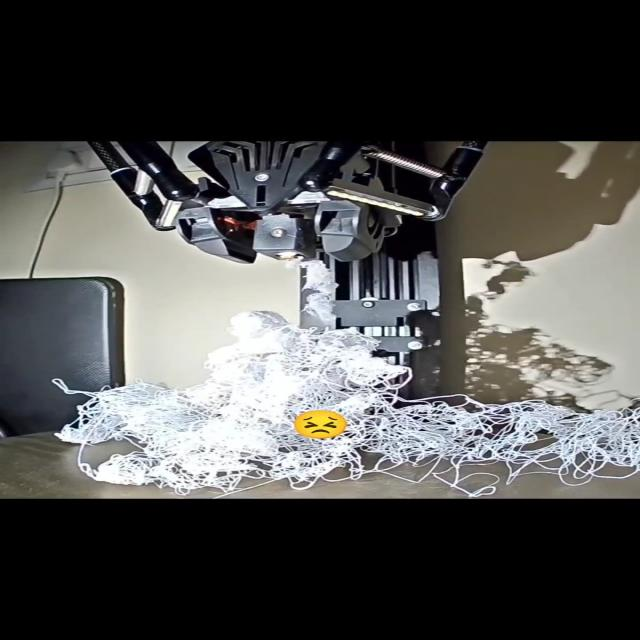spaghetti: (52, 260, 640, 498)
